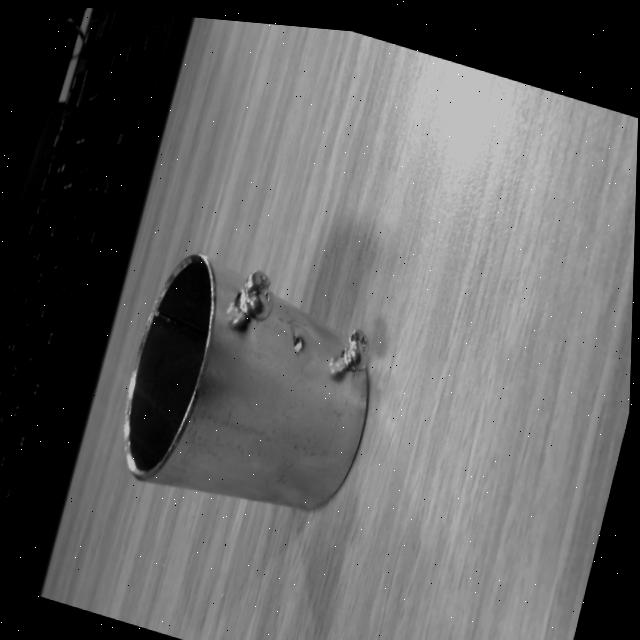Co_Nho: (106, 244, 393, 529)
